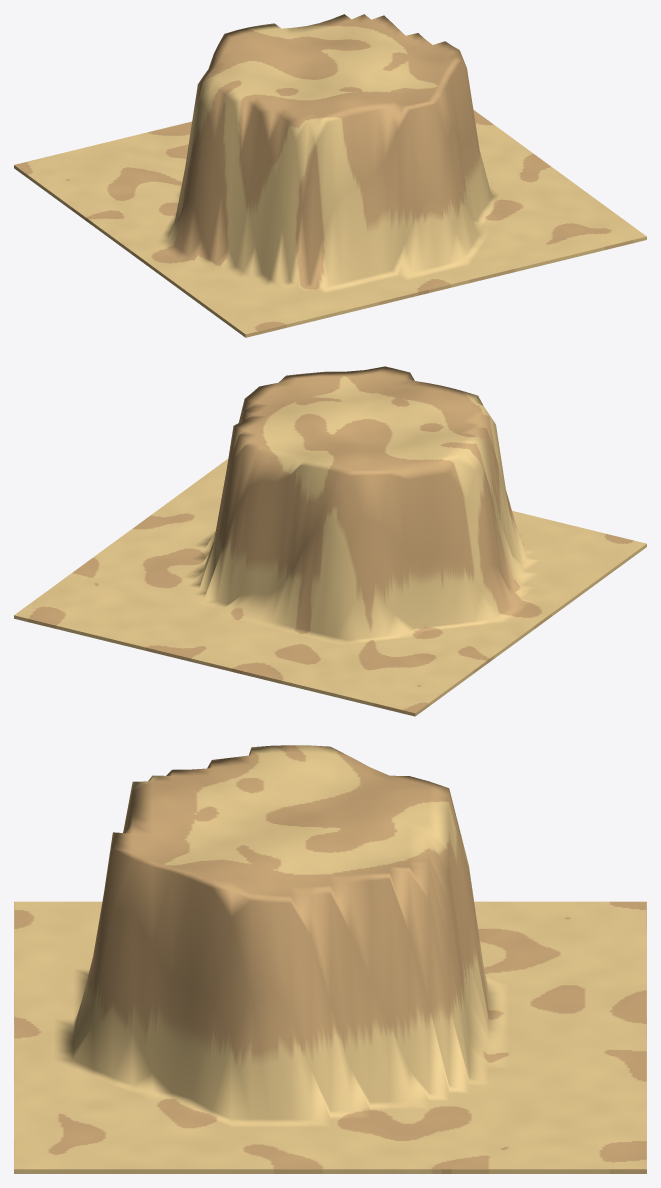
Rendered from Desert_Mountains_06.obj.
The picture shows the model from 3 angles, top to bottom: view 1: azimuth 30°, elevation 25°; view 2: azimuth 150°, elevation 25°; view 3: azimuth 270°, elevation 25°; orthographic projection. The views are drawn at different scales.
Bounding box in the file's own units: 10 × 3.71 × 10.
1 material, 1 textured.
